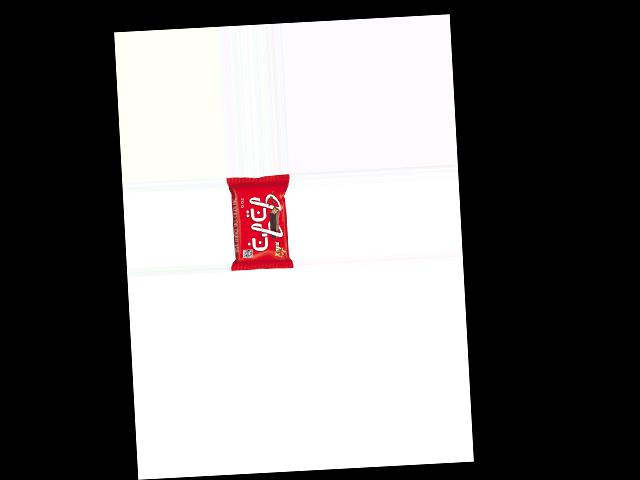chocolate: (225, 174, 293, 270)
